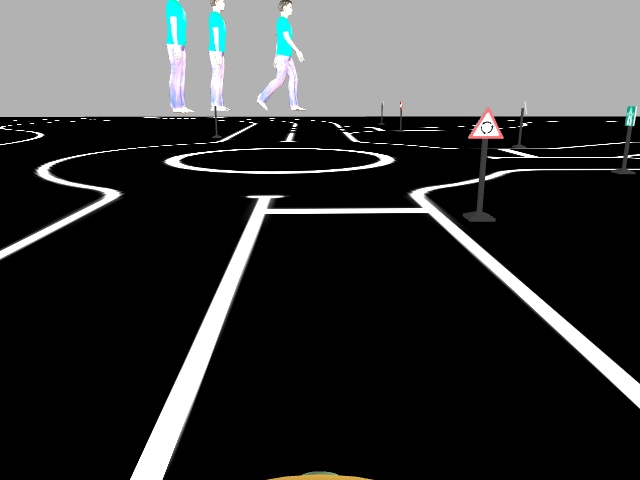Roundabout: (464, 103, 508, 142)
